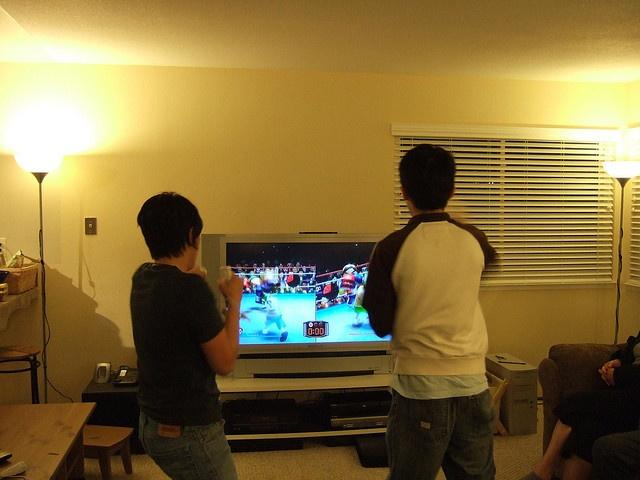AIO PC-Monitor-TV: (200, 232, 394, 355)
